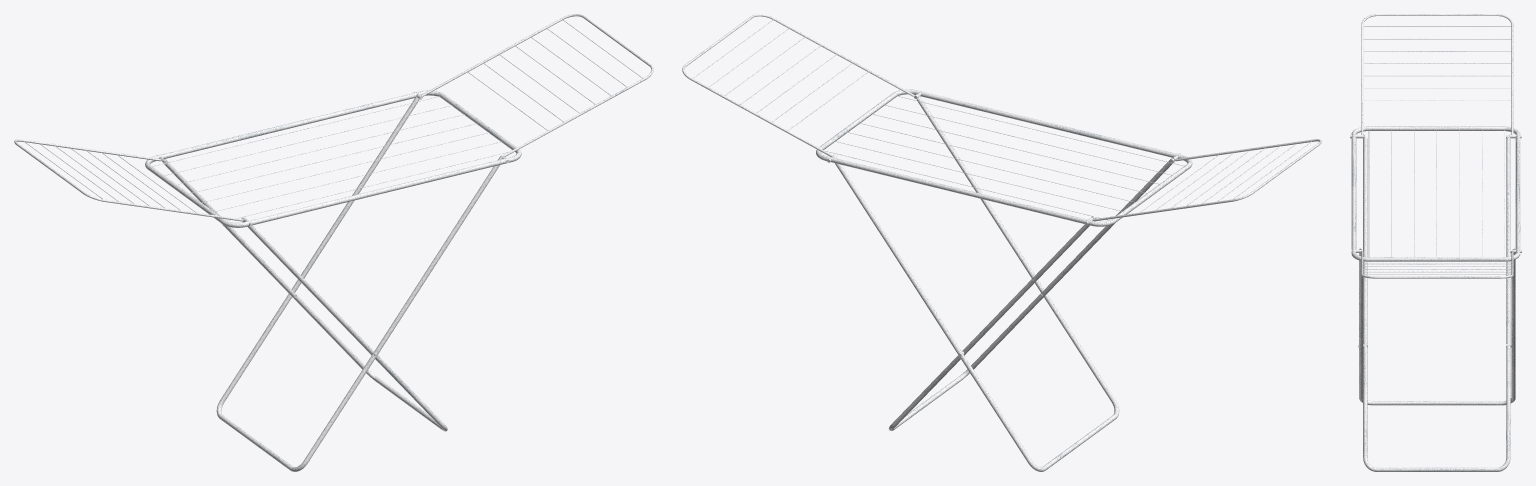
3 renders of one model, left to right at view 1: azimuth 30°, elevation 25°; view 2: azimuth 150°, elevation 25°; view 3: azimuth 270°, elevation 25°, orthographic. The views are drawn at different scales.
Parts seen in each view (by area): view 1: group_0, group_14, group_13, group_5 (×2); view 2: group_0, group_14, group_13, group_5 (×2); view 3: group_13, group_0, group_14, group_5 (×2), group_2 (×2), group_7 (×2), group_25.
Boxes of the visible parts, bbox=[...] form: group_0: bbox=[145, 90, 521, 227]; group_14: bbox=[216, 93, 504, 471]; group_13: bbox=[161, 158, 447, 431]; group_5 (×2): bbox=[14, 14, 653, 221]; group_0: bbox=[816, 89, 1192, 226]; group_14: bbox=[831, 93, 1119, 471]; group_13: bbox=[888, 158, 1174, 430]; group_5 (×2): bbox=[682, 14, 1321, 221]; group_13: bbox=[1363, 134, 1510, 471]; group_0: bbox=[1351, 126, 1520, 261]; group_14: bbox=[1359, 248, 1515, 405]; group_5 (×2): bbox=[1361, 14, 1513, 278]; group_2 (×2): bbox=[1363, 75, 1510, 264]; group_7 (×2): bbox=[1363, 38, 1510, 272]; group_25: bbox=[1368, 130, 1369, 256].
Size of the model in its own units: 81.36 by 23.31 by 44.79.
